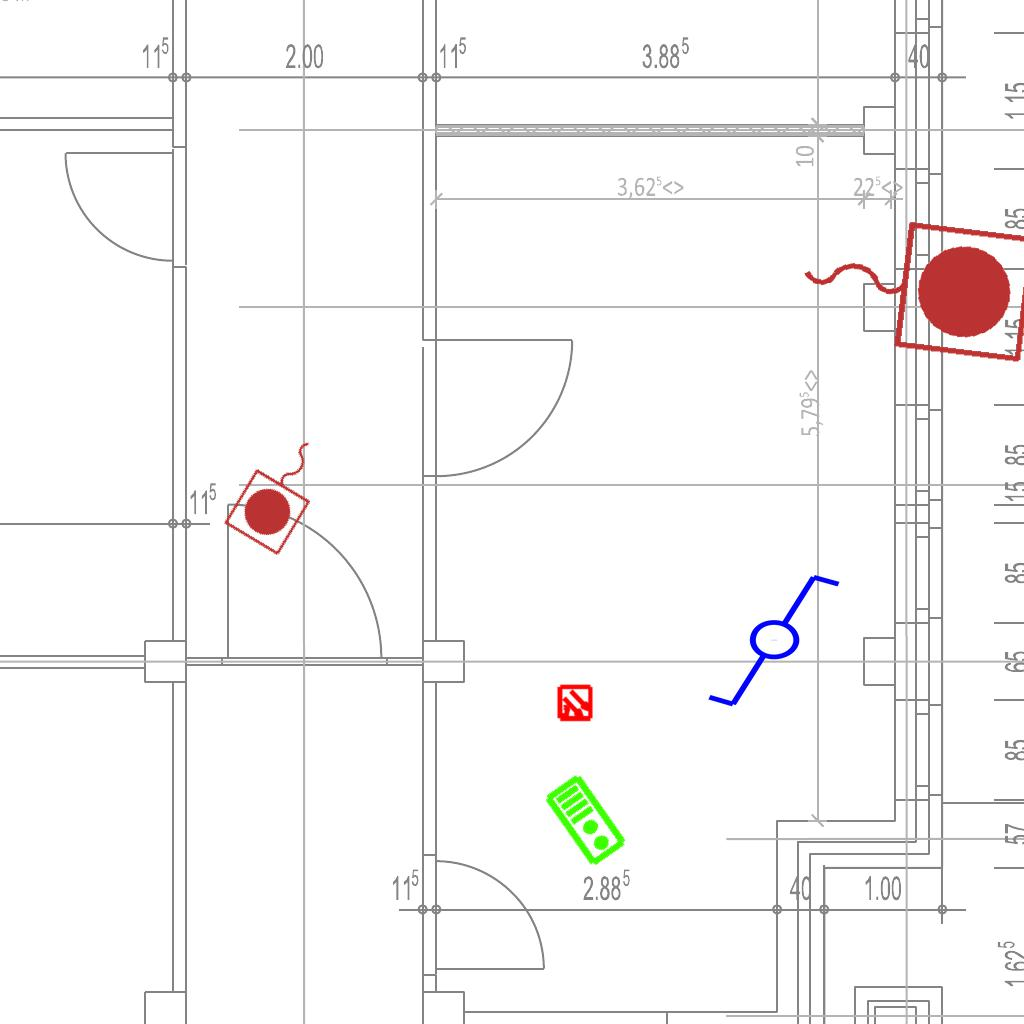Gegensprechanlage_mit_Video: (542, 770, 631, 870)
OT_Multisensormelder_(Kombination_RMO_WMD): (547, 676, 603, 732)
Wechselschalter: (704, 570, 861, 714)
Zugtaster: (785, 197, 1024, 371), (218, 420, 344, 562)
